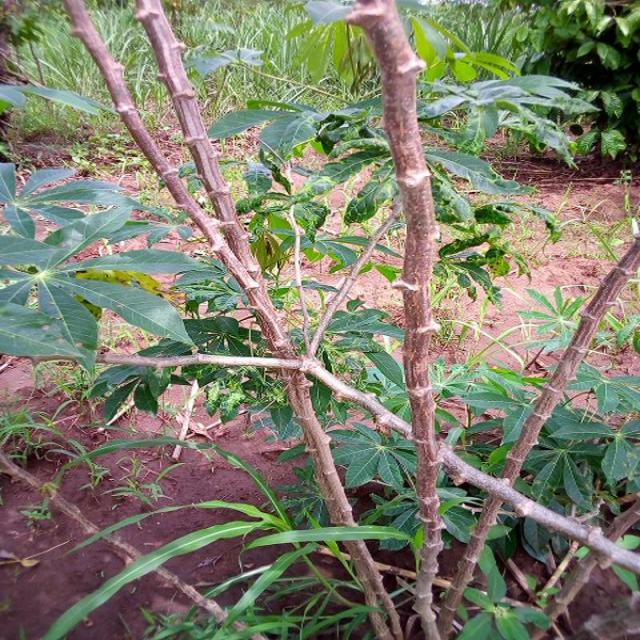cassava leaf: (0, 163, 198, 376)
